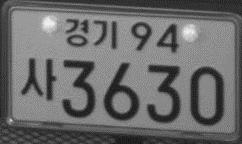0: (188, 65, 226, 126)
3: (61, 58, 96, 118), (146, 64, 181, 124)
4: (155, 23, 179, 53)
6: (102, 61, 140, 121)
9: (130, 21, 153, 51)
경기_H: (64, 16, 117, 50)
사: (20, 57, 57, 100)
